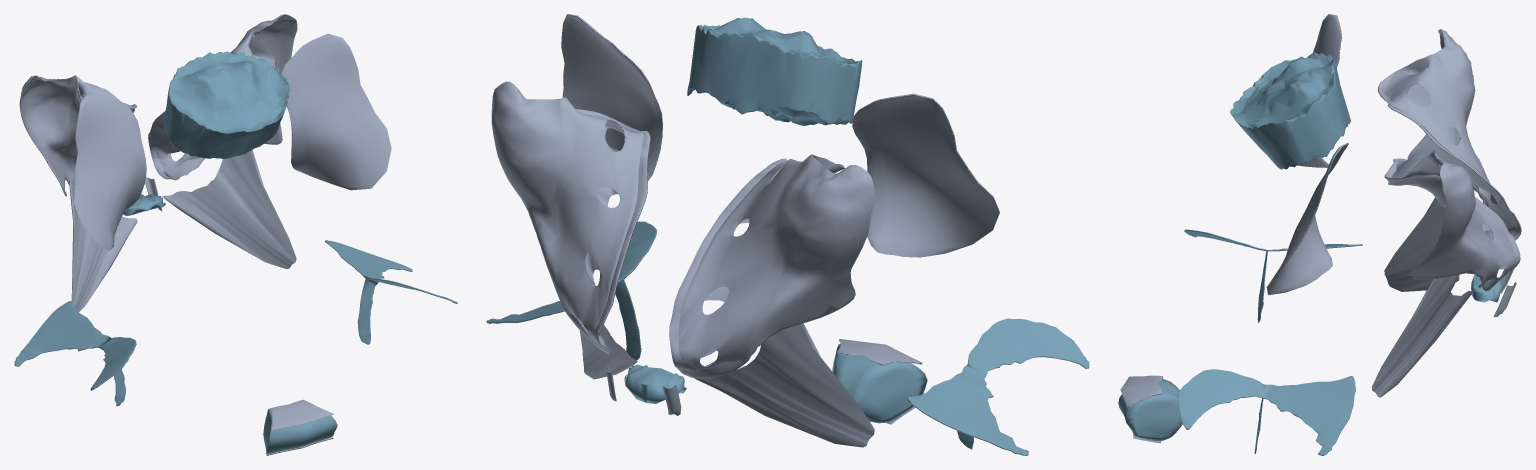
Rendered from femalejoints.glb.
3 renders of one model, left to right at view 1: azimuth 30°, elevation 25°; view 2: azimuth 150°, elevation 25°; view 3: azimuth 270°, elevation 25°, orthographic. The views are drawn at different scales.
Visible parts, largest first — view 1: q0, q6, q1, q12, q9, q16, q8, q13, q15, q10, q14, q11; view 2: q9, q8, q1, q6, q13, q16, q0, q10, q15, q11, q12, q14; view 3: q6, q9, q8, q15, q12, q0, q13, q10, q1, q14, q16, q11.
Part boxes in pixels (<box>): q0: <box>281,33,391,190</box>; q6: <box>163,51,289,159</box>; q1: <box>74,94,146,250</box>; q12: <box>162,149,296,269</box>; q9: <box>19,75,136,196</box>; q16: <box>14,301,136,406</box>; q8: <box>148,14,297,180</box>; q13: <box>69,178,137,312</box>; q15: <box>325,240,457,344</box>; q10: <box>263,409,337,454</box>; q14: <box>269,399,333,430</box>; q11: <box>123,194,165,215</box>; q9: <box>669,154,874,378</box>; q8: <box>491,81,650,354</box>; q1: <box>852,93,999,257</box>; q6: <box>687,17,862,125</box>; q13: <box>694,323,874,447</box>; q16: <box>907,318,1089,455</box>; q0: <box>561,14,662,180</box>; q10: <box>832,343,927,423</box>; q15: <box>486,221,656,359</box>; q11: <box>624,364,686,403</box>; q12: <box>579,324,637,379</box>; q14: <box>837,339,922,365</box>; q6: <box>1230,52,1350,169</box>; q9: <box>1378,29,1521,240</box>; q8: <box>1384,150,1520,290</box>; q15: <box>1178,369,1355,455</box>; q12: <box>1372,275,1475,397</box>; q0: <box>1266,143,1348,294</box>; q13: <box>1384,197,1459,291</box>; q10: <box>1118,379,1182,441</box>; q1: <box>1298,14,1341,167</box>; q14: <box>1120,375,1163,408</box>; q16: <box>1184,229,1362,322</box>; q11: <box>1471,274,1501,302</box>.
Bounding box in the file's own units: 17.63 × 14.41 × 14.26.
